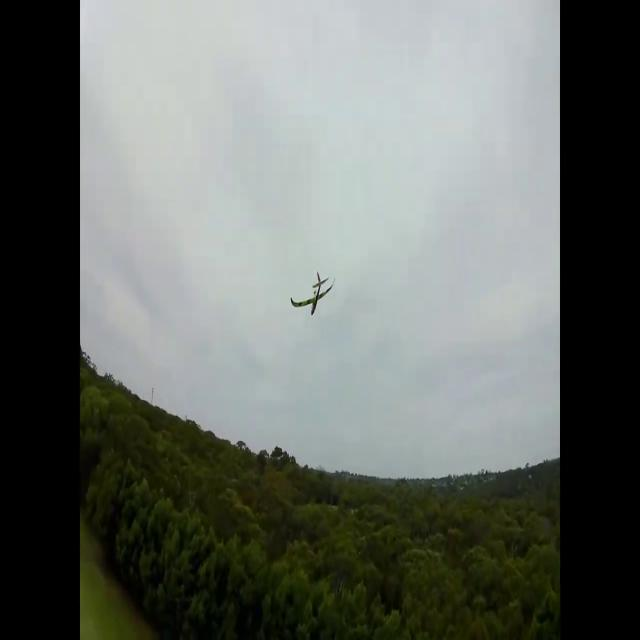iha: (291, 274, 335, 316)
